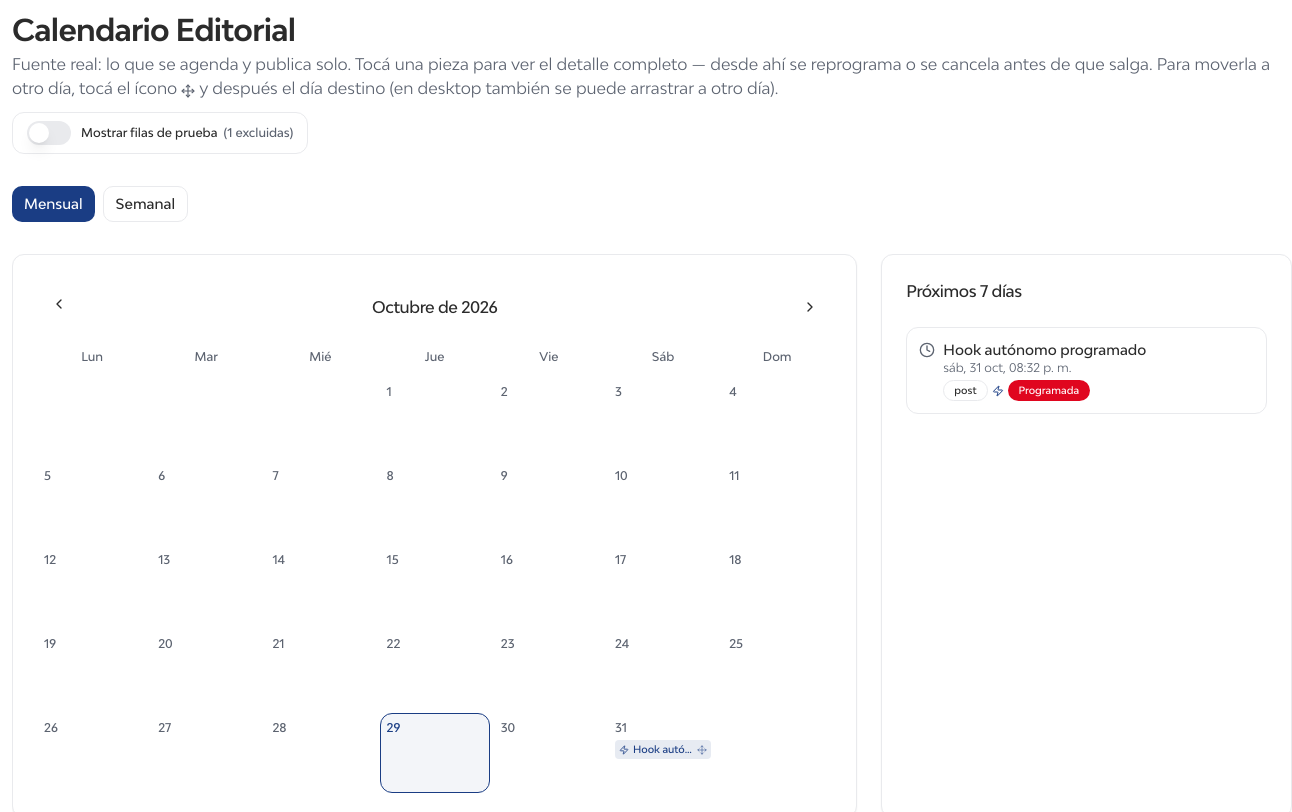
Test: Calendario Page › switches between month and week view
Click the button "Semanal" at x=145, y=204, box [103,186,188,222]
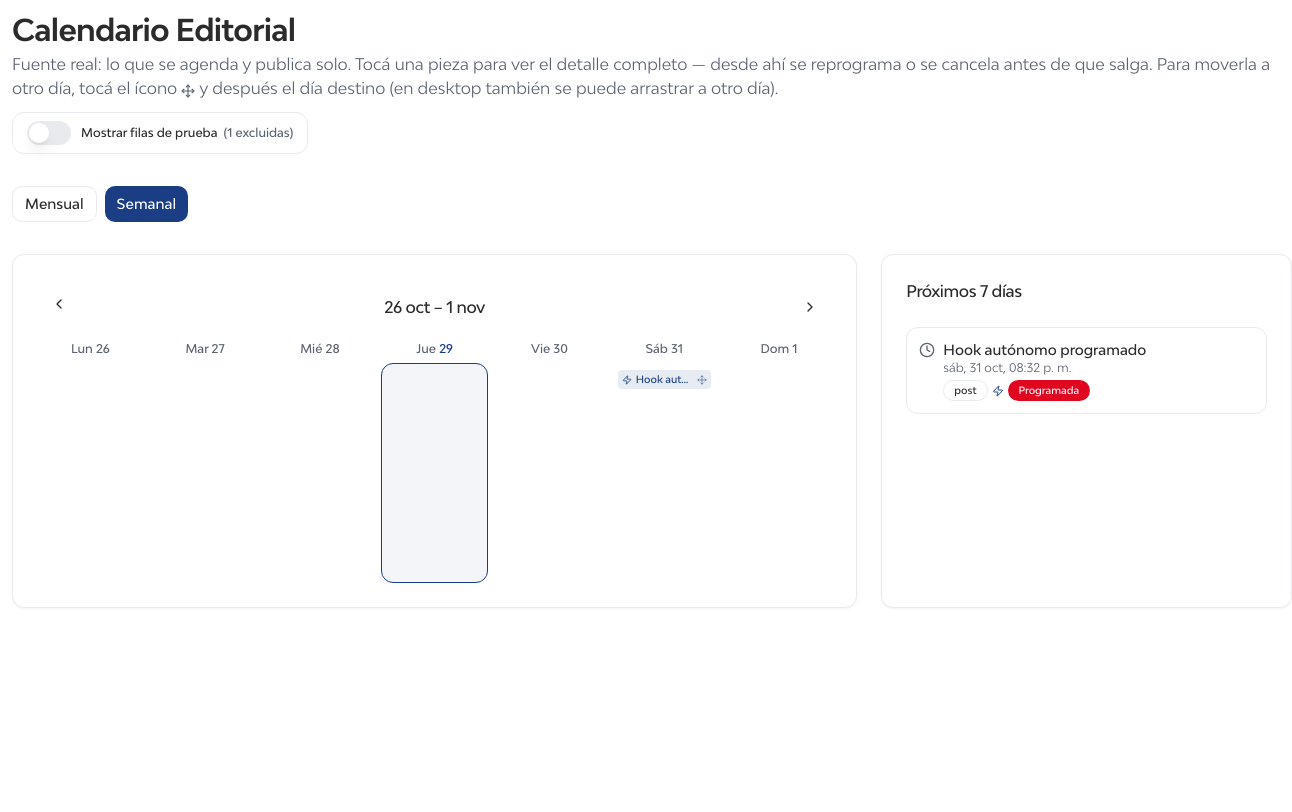
Check: the text "26 oct – 1 nov" is shown, box [384,295,485,319]
